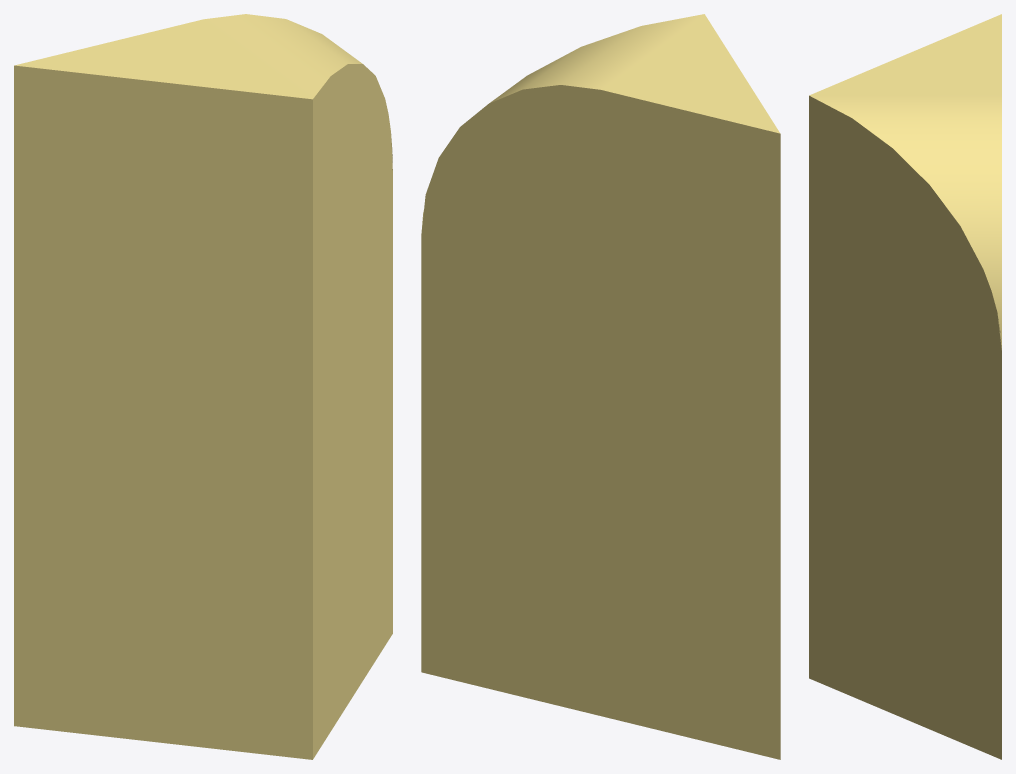
Rendered from Corner_Corner_StraightToRound.glb.
3 views of the same model, side by side, from view 1: azimuth 30°, elevation 25°; view 2: azimuth 150°, elevation 25°; view 3: azimuth 270°, elevation 25° (orthographic). The views are drawn at different scales.
Parts seen in each view (by area): view 1: Corner_Corner_StraightToRound; view 2: Corner_Corner_StraightToRound; view 3: Corner_Corner_StraightToRound.
Part boxes in pixels (x1,y1,x2,y2): Corner_Corner_StraightToRound: (14,14,392,759); Corner_Corner_StraightToRound: (421,14,780,759); Corner_Corner_StraightToRound: (809,14,1001,759).
Bounding box in the file's own units: 0.3 × 0.5 × 0.15.
